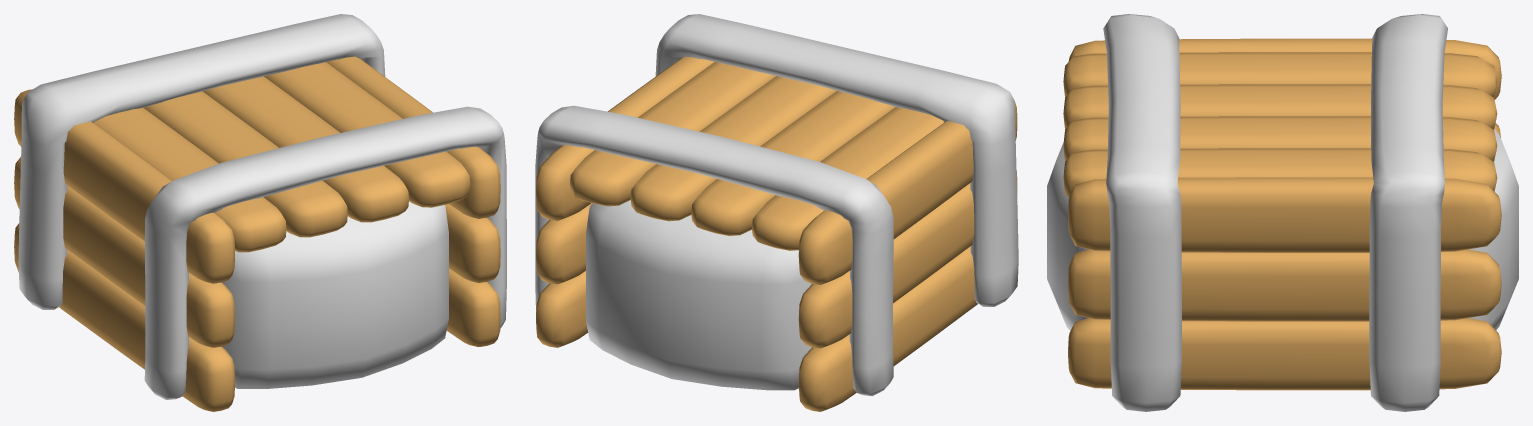
The model's file is Caisse1.fbx.
3 renders of one model, left to right at view 1: azimuth 30°, elevation 25°; view 2: azimuth 150°, elevation 25°; view 3: azimuth 270°, elevation 25°, orthographic. The views are drawn at different scales.
Parts seen in each view (by area): view 1: Cube.024; view 2: Cube.024; view 3: Cube.024.
Part boxes in pixels (x1=…): Cube.024: x1=14, y1=14, x2=506, y2=411; Cube.024: x1=535, y1=14, x2=1018, y2=411; Cube.024: x1=1047, y1=14, x2=1518, y2=411.
Size of the model in its own units: 113 by 69.13 by 124.
